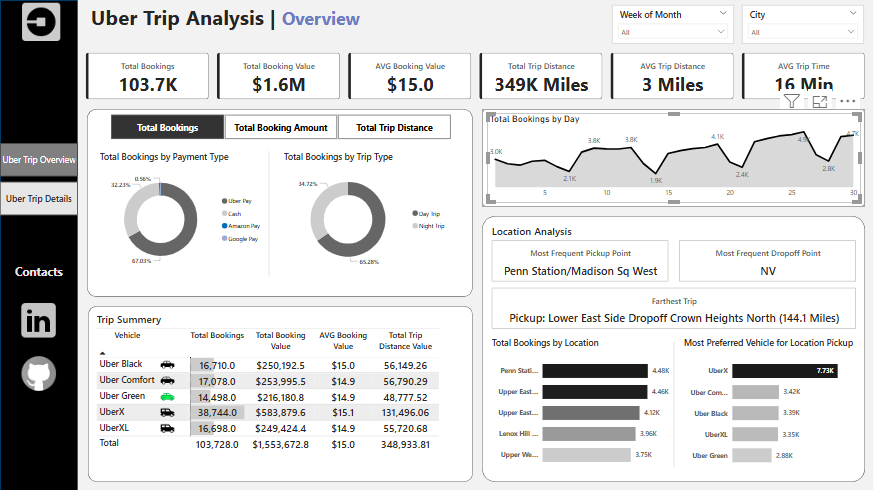

The page's visual inventory and layout, read from the dashboard file:
{"tool":"powerbi","page":{"name":"Uber Trip Overview","canvas":[1600,900],"ordinal":0},"visuals":[{"type":"shape","box":[0,0,142,900],"z":0},{"type":"shape","box":[881.7,199.3,700.7,179.3],"z":0,"group":"g1"},{"type":"areaChart","fields":{"Category":["Date_Table.Date.Variation.Date Hierarchy.Day"],"Y":["_Metrices.Total Bookings"]},"box":[890,206.3,685.1,164.8],"z":1000,"group":"g1"},{"type":"textbox","box":[160.2,0,717,68.7],"z":2000},{"type":"cardVisual","fields":{"Data":["_Metrices.Total_Bookings","_Metrices.Total_Booking_Amount","_Metrices.AVG_Booking_Value","_Metrices.Total_Trip_Distance","_Metrices.AVG_Trip_Distance","_Metrices.AVG_Trip_Time"]},"box":[152.6,92,1439.8,95.4],"z":3000},{"type":"shape","box":[159.4,198.6,705.7,343.7],"z":4000},{"type":"slicer","fields":{"Values":["Dynamic Measure.Dynamic Measure"]},"box":[177.8,202.5,670.7,58.3],"z":5000},{"type":"shape","box":[881.7,395.2,700.7,486.5],"z":6000},{"type":"donutChart","fields":{"Y":["_Metrices.Total Bookings"],"Category":["Trip Details.Payment_type"]},"box":[177.8,276.3,312.3,229.2],"z":7000},{"type":"shape","box":[161,559.8,704.3,322],"z":7000,"group":"g2"},{"type":"group","id":"g1","title":"Group 2","box":[881.7,199.3,700.7,179.3],"z":8000},{"type":"pivotTable","title":"Trip Summery","fields":{"Rows":["Trip Details.Vehicle"],"Values":["_Metrices.Blank_","_Metrices.Total Bookings","_Metrices.Total Booking Amount","_Metrices.AVG Booking Value","_Metrices.Total Trip Distance Value"]},"box":[171.1,571,684,296.4],"z":8000,"group":"g2"},{"type":"donutChart","fields":{"Y":["_Metrices.Total Bookings"],"Category":["Trip Details.Trip Type"]},"box":[513.2,276.3,313.2,229.2],"z":9000},{"type":"group","id":"g2","title":"Group 3","box":[161,559.8,704.3,322],"z":10000},{"type":"cardVisual","fields":{"Data":["_Metrices.Farthest Trip"]},"box":[894.6,521.3,676.1,85],"z":11000},{"type":"cardVisual","title":"Location Analysis","fields":{"Data":["_Metrices.Most Frequent Pickup Point","_Metrices.Most Frequent Dropoff Point"]},"box":[894.6,409.5,676.1,110],"z":12000},{"type":"clusteredBarChart","fields":{"Category":["Location Table.Location"],"Y":["_Metrices.Total Bookings"]},"box":[894.2,616.2,338.3,250.5],"z":13000},{"type":"clusteredBarChart","title":"Most Preferred Vehicle for Location Pickup","fields":{"Category":["Trip Details.Vehicle"],"Y":["CountNonNull(Trip Details.PULocationID)"]},"box":[1245.6,615.9,325.2,251.2],"z":14000},{"type":"shape","box":[480,277,25.8,228.8],"z":15000},{"type":"shape","box":[1219.8,626.2,25.8,228.8],"z":16000},{"type":"slicer","fields":{"Values":["Date_Table.Week of Month"]},"box":[1119.4,9.5,223.1,70.6],"z":17000},{"type":"slicer","fields":{"Values":["Location Table.City"]},"box":[1357.8,9.5,223.1,70.6],"z":18000},{"type":"image","box":[7.3,0,135.4,80.5],"z":19000},{"type":"image","box":[0,542.5,141.5,84.5],"z":20000},{"type":"image","box":[0,640.8,141.5,86.5],"z":21000},{"type":"pageNavigator","box":[0,261.6,142.7,133.5],"z":22000},{"type":"textbox","box":[0,477.6,141.5,41.3],"z":22001}]}

Visuals, with their boxes on the page's 1600x900 design canvas (x1, y1, x2, y2). These are canvas units, not pixel positions in the 873x490 screenshot, which may show the page scaled, cropped or inside an application window:
shape: locate(0, 0, 142, 900)
shape: locate(882, 199, 1582, 379)
areaChart - Date_Table.Date.Variation.Date Hierarchy.Day x _Metrices.Total Bookings: locate(890, 206, 1575, 371)
textbox: locate(160, 0, 877, 69)
cardVisual - _Metrices.Total_Bookings x _Metrices.Total_Booking_Amount: locate(153, 92, 1592, 187)
shape: locate(159, 199, 865, 542)
slicer - Dynamic Measure.Dynamic Measure: locate(178, 202, 848, 261)
shape: locate(882, 395, 1582, 882)
donutChart - _Metrices.Total Bookings x Trip Details.Payment_type: locate(178, 276, 490, 506)
shape: locate(161, 560, 865, 882)
"Group 2" group: locate(882, 199, 1582, 379)
"Trip Summery" pivotTable: locate(171, 571, 855, 867)
donutChart - _Metrices.Total Bookings x Trip Details.Trip Type: locate(513, 276, 826, 506)
"Group 3" group: locate(161, 560, 865, 882)
cardVisual - _Metrices.Farthest Trip: locate(895, 521, 1571, 606)
"Location Analysis" cardVisual: locate(895, 410, 1571, 520)
clusteredBarChart - Location Table.Location x _Metrices.Total Bookings: locate(894, 616, 1232, 867)
"Most Preferred Vehicle for Location Pickup" clusteredBarChart: locate(1246, 616, 1571, 867)
shape: locate(480, 277, 506, 506)
shape: locate(1220, 626, 1246, 855)
slicer - Date_Table.Week of Month: locate(1119, 10, 1342, 80)
slicer - Location Table.City: locate(1358, 10, 1581, 80)
image: locate(7, 0, 143, 80)
image: locate(0, 542, 142, 627)
image: locate(0, 641, 142, 727)
pageNavigator: locate(0, 262, 143, 395)
textbox: locate(0, 478, 142, 519)
